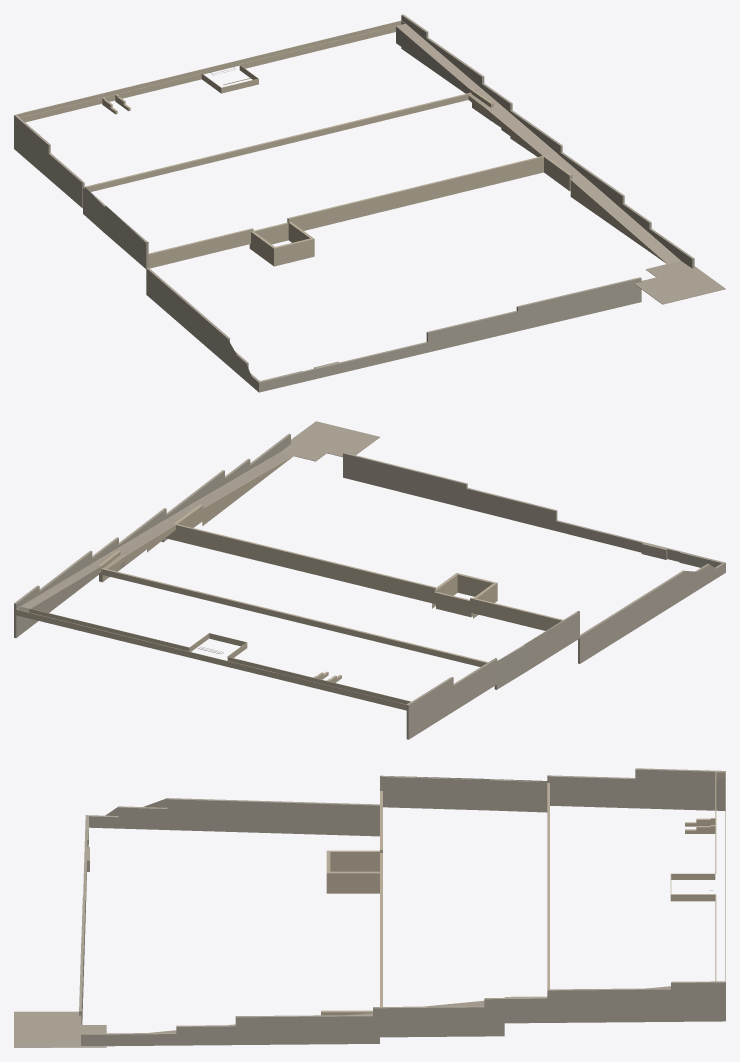
The model's file is Exterior_Walls_B.fbx.
The picture shows the model from 3 angles, top to bottom: view 1: azimuth 30°, elevation 25°; view 2: azimuth 150°, elevation 25°; view 3: azimuth 270°, elevation 25°; orthographic projection. The views are drawn at different scales.
Visible parts, largest first — view 1: GardenBorder, GardenDivider, Road, GardenWalls; view 2: GardenBorder, GardenDivider, Road, GardenWalls; view 3: GardenBorder, GardenDivider, Road, GardenWalls.
Boxes of the visible parts, x1=… form: GardenBorder: x1=14, y1=14, x2=694, y2=392; GardenDivider: x1=85, y1=88, x2=680, y2=268; Road: x1=396, y1=24, x2=725, y2=304; GardenWalls: x1=16, y1=20, x2=405, y2=122; GardenBorder: x1=14, y1=434, x2=725, y2=739; GardenDivider: x1=93, y1=452, x2=562, y2=666; Road: x1=21, y1=421, x2=379, y2=625; GardenWalls: x1=16, y1=606, x2=411, y2=710; GardenBorder: x1=79, y1=768, x2=725, y2=1046; GardenDivider: x1=149, y1=783, x2=549, y2=1032; Road: x1=14, y1=986, x2=670, y2=1047; GardenWalls: x1=670, y1=772, x2=725, y2=981.
Bounding box in the file's own units: 2113 × 327 × 2607.
